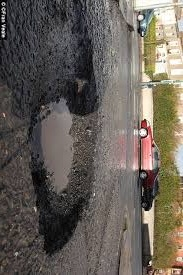pothole: (12, 26, 107, 263), (111, 209, 132, 275)
